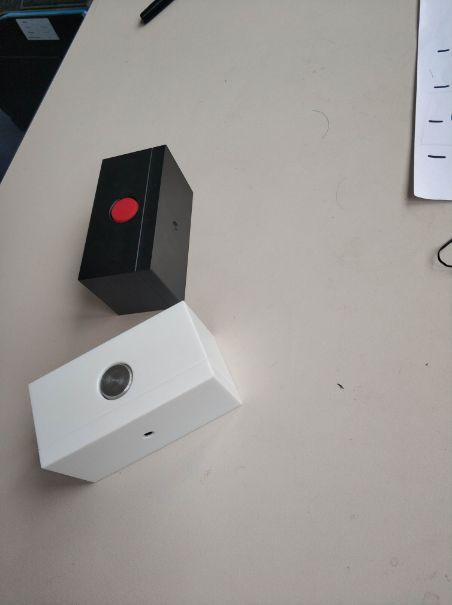black+black+red: (74, 142, 195, 318)
white+white+silver: (25, 297, 245, 487)
